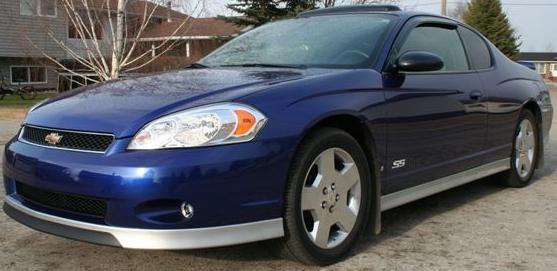front_view: (13, 97, 270, 236)
headlight: (142, 109, 270, 147)
side_glass: (399, 18, 495, 69)
